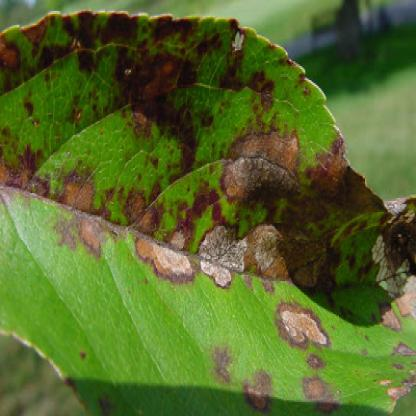apple scab leaf: (1, 3, 415, 414)
